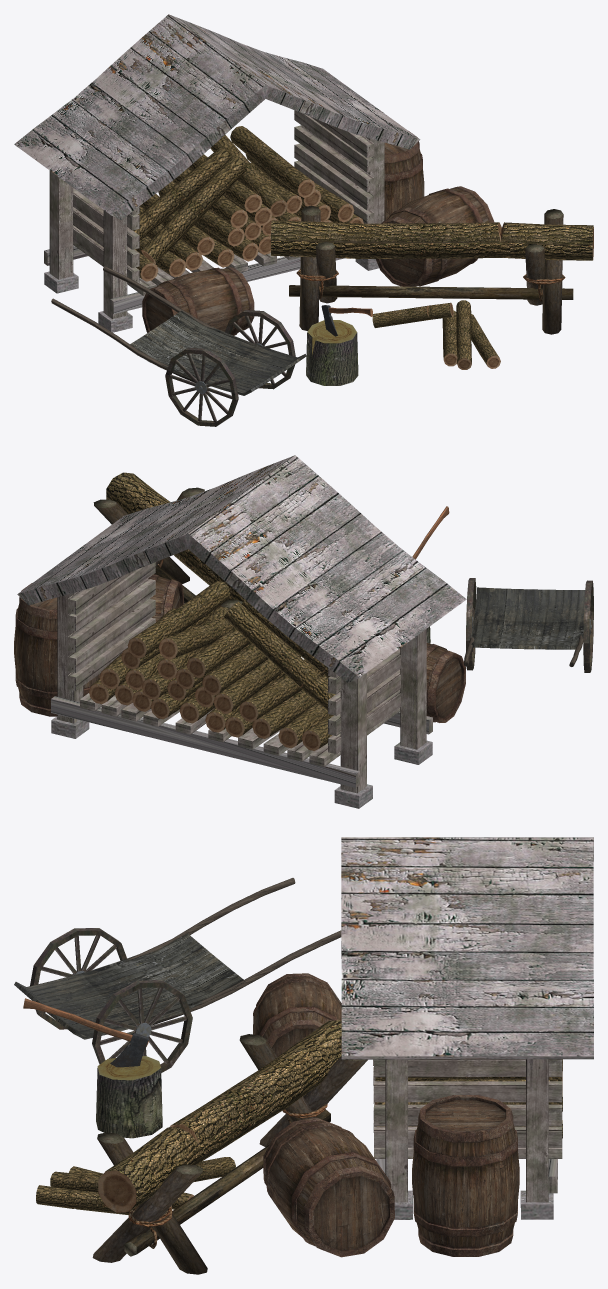
The model's file is Props_Assignment_Export.fbx.
3 views of the same model, one above another, from view 1: azimuth 30°, elevation 25°; view 2: azimuth 150°, elevation 25°; view 3: azimuth 270°, elevation 25° (orthographic). The views are drawn at different scales.
Visible parts, largest first — view 1: Woodshack_right, Log_Big1, Cart1, Log_Big, Wood_stand, Barrel_4, Barrel_3, Log_Big30, Log_Small, Barrel_2; view 2: Woodshack_right, Log_Big1, Cart1, Barrel_2, Barrel_4, Log_Big, Wood_stand, Barrel_3; view 3: Woodshack_right, Cart1, Barrel_2, Barrel_3, Log_Big, Wood_stand, Barrel_4, Log_Small, Log_Big30, Hatchet, Log_Big1.
Boxes of the visible parts, x1,y1,x2,y2 form: Woodshack_right: (14, 14, 420, 332); Log_Big1: (133, 126, 363, 281); Cart1: (51, 266, 306, 426); Log_Big: (271, 220, 593, 260); Wood_stand: (289, 205, 573, 334); Barrel_4: (142, 267, 254, 335); Barrel_3: (376, 186, 494, 286); Log_Big30: (372, 300, 500, 369); Log_Small: (306, 320, 358, 385); Barrel_2: (384, 131, 424, 220); Woodshack_right: (17, 455, 466, 808); Log_Big1: (89, 581, 335, 750); Cart1: (464, 578, 593, 672); Barrel_2: (14, 583, 100, 716); Barrel_4: (426, 643, 465, 722); Log_Big: (106, 472, 244, 601); Wood_stand: (93, 487, 242, 611); Barrel_3: (148, 574, 183, 622); Woodshack_right: (341, 837, 593, 1219); Cart1: (14, 878, 341, 1072); Barrel_2: (412, 1095, 519, 1256); Barrel_3: (263, 1117, 394, 1257); Log_Big: (98, 1020, 341, 1212); Wood_stand: (92, 1034, 367, 1274); Barrel_4: (253, 973, 341, 1056); Log_Small: (96, 1056, 162, 1138); Log_Big30: (36, 1157, 235, 1215); Hatchet: (23, 998, 148, 1067); Log_Big1: (375, 1059, 562, 1138).
Bounding box in the file's own units: 258 × 116 × 206.
